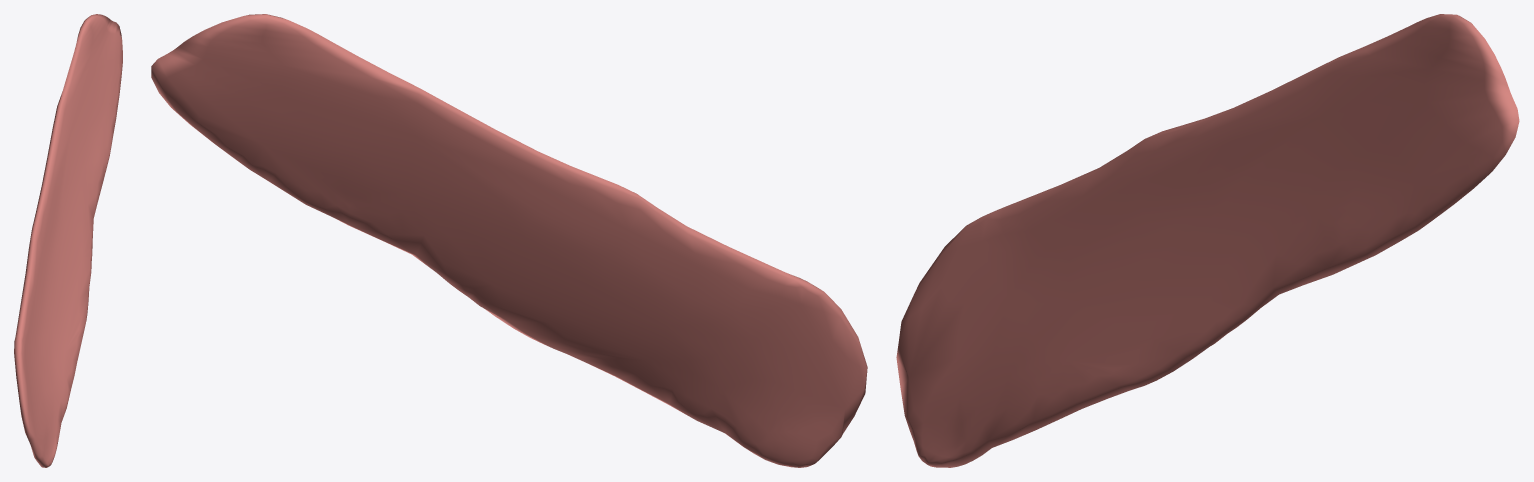
The picture shows the model from 3 angles, left to right: view 1: azimuth 30°, elevation 25°; view 2: azimuth 150°, elevation 25°; view 3: azimuth 270°, elevation 25°; orthographic projection. The views are drawn at different scales.
Visible parts, largest first — view 1: ZA_8197ae91526ebac0; view 2: ZA_8197ae91526ebac0; view 3: ZA_8197ae91526ebac0.
Boxes of the visible parts, x1=… form: ZA_8197ae91526ebac0: x1=14, y1=14, x2=122, y2=467; ZA_8197ae91526ebac0: x1=151, y1=14, x2=867, y2=467; ZA_8197ae91526ebac0: x1=896, y1=14, x2=1519, y2=467.
Size of the model in its own units: 0.0168 by 0.0198 by 0.0181.
